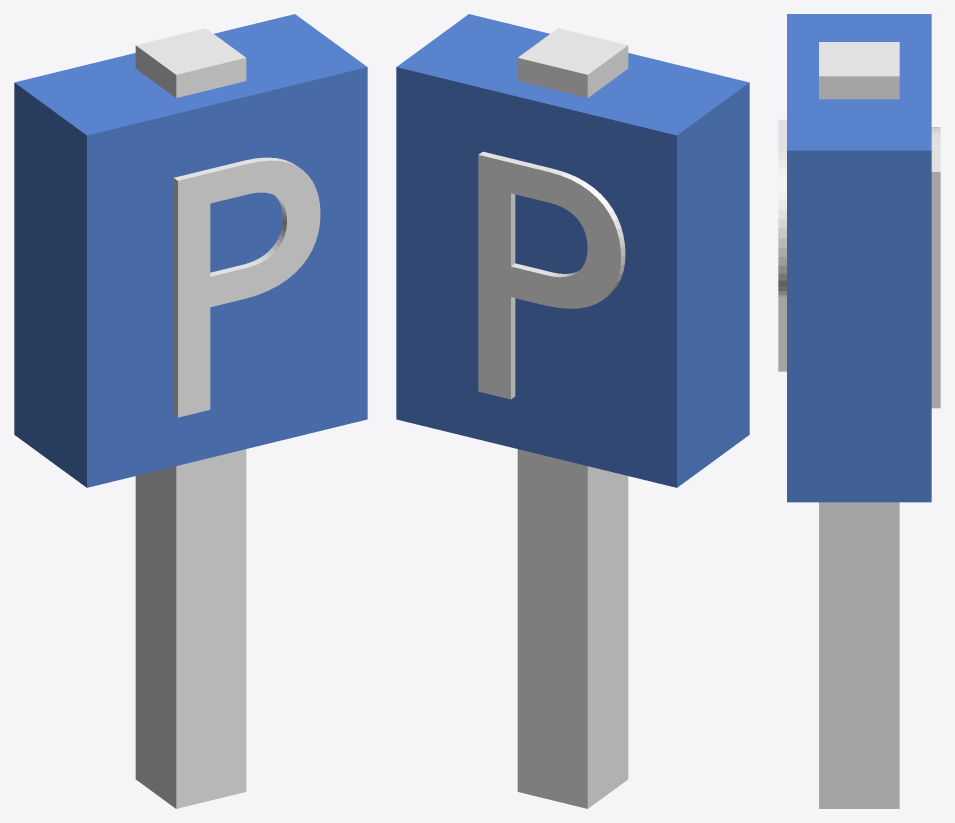
File: parkingArea.gltf
The picture shows the model from 3 angles, left to right: view 1: azimuth 30°, elevation 25°; view 2: azimuth 150°, elevation 25°; view 3: azimuth 270°, elevation 25°; orthographic projection.
Visible parts, largest first — view 1: Cube.007, Cube.006, Text; view 2: Cube.007, Cube.006, Text.001; view 3: Cube.007, Cube.006, Text.001, Text.
Part boxes in pixels (left/top/right/bottom): Cube.007: left=14, top=14, right=367, bottom=487; Cube.006: left=135, top=28, right=246, bottom=808; Text: left=173, top=157, right=320, bottom=417; Cube.007: left=396, top=14, right=749, bottom=487; Cube.006: left=517, top=28, right=628, bottom=808; Text.001: left=478, top=151, right=625, bottom=399; Cube.007: left=787, top=14, right=931, bottom=502; Cube.006: left=819, top=42, right=899, bottom=808; Text.001: left=931, top=127, right=940, bottom=408; Text: left=778, top=119, right=786, bottom=371.
Size of the model in its own units: 0.4 by 1 by 0.2004.
